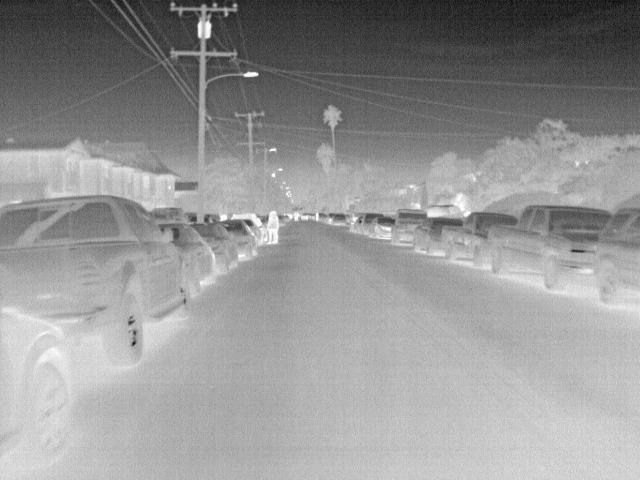car: (2, 195, 202, 369), (2, 306, 78, 466), (486, 204, 613, 294), (593, 206, 639, 308), (158, 222, 218, 296), (442, 211, 518, 266), (189, 221, 240, 273), (412, 217, 465, 257), (390, 206, 430, 248), (218, 219, 256, 260), (370, 216, 399, 237), (244, 220, 267, 246), (362, 212, 386, 233), (333, 213, 350, 228), (353, 216, 365, 232), (299, 211, 311, 222)
person: (265, 209, 278, 245)
